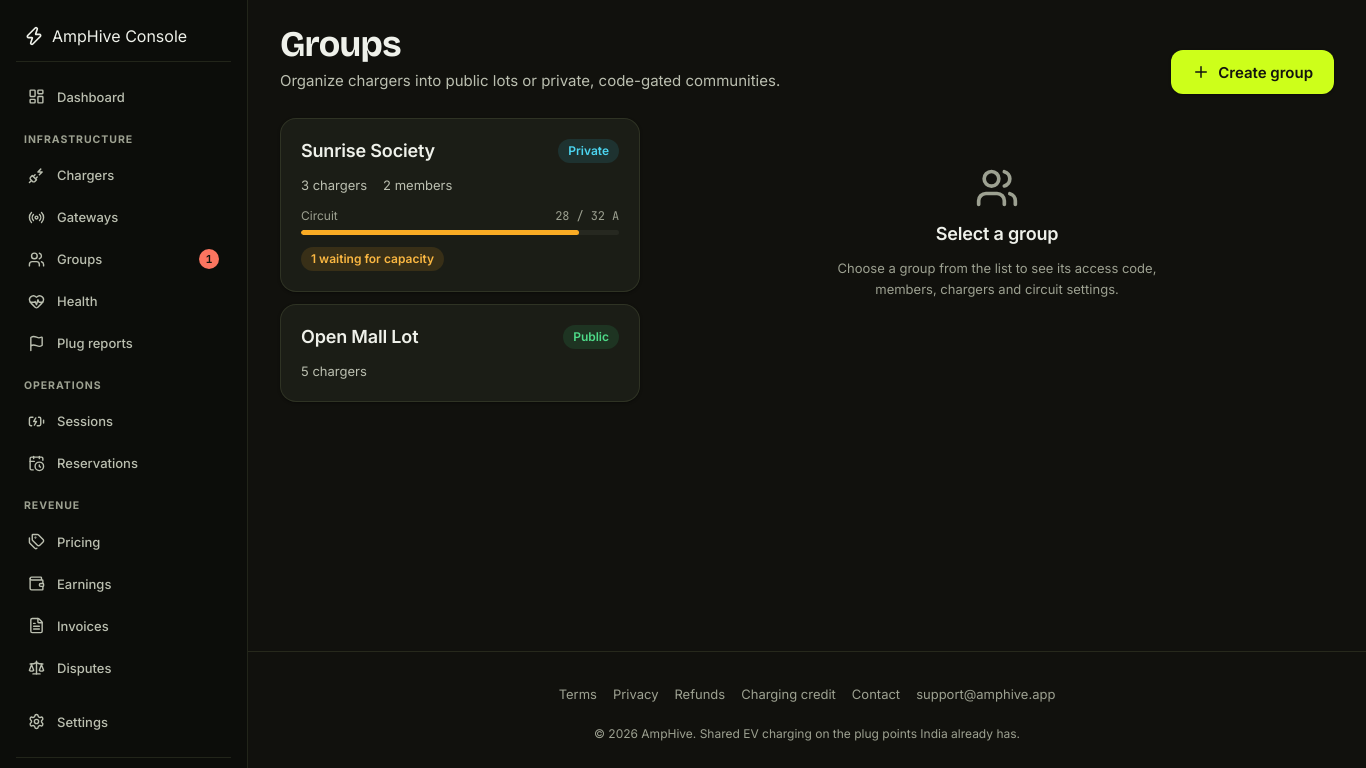
Test case: group detail › hides Access and Members for a public group
Expected: the heading "Sunrise Society" is shown, [301,139,435,163]
Click the button "Open Mall Lot Public 5 chargers".
click(360, 337)  # box [280,304,640,402]
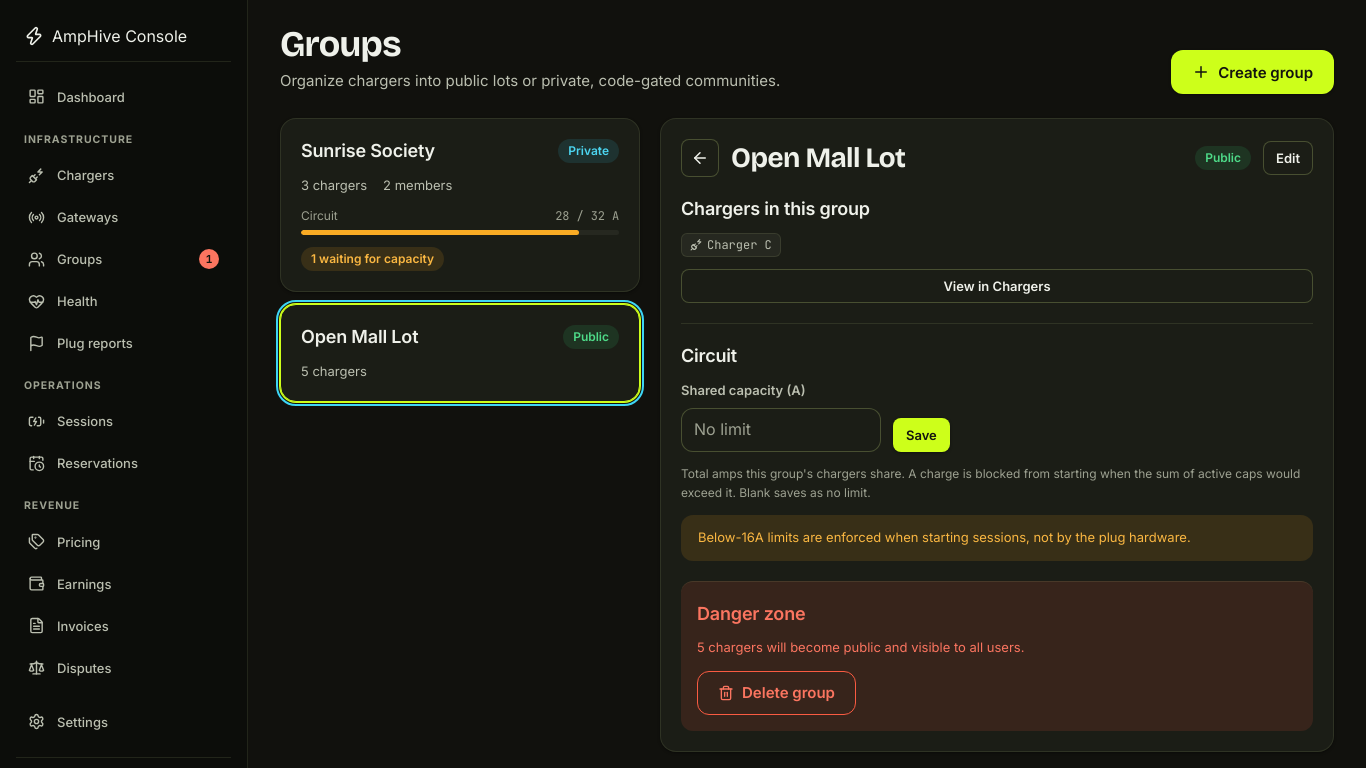
Now the text "Charger C" is shown, box [681,232,781,257]
Now the text "access" is gone
